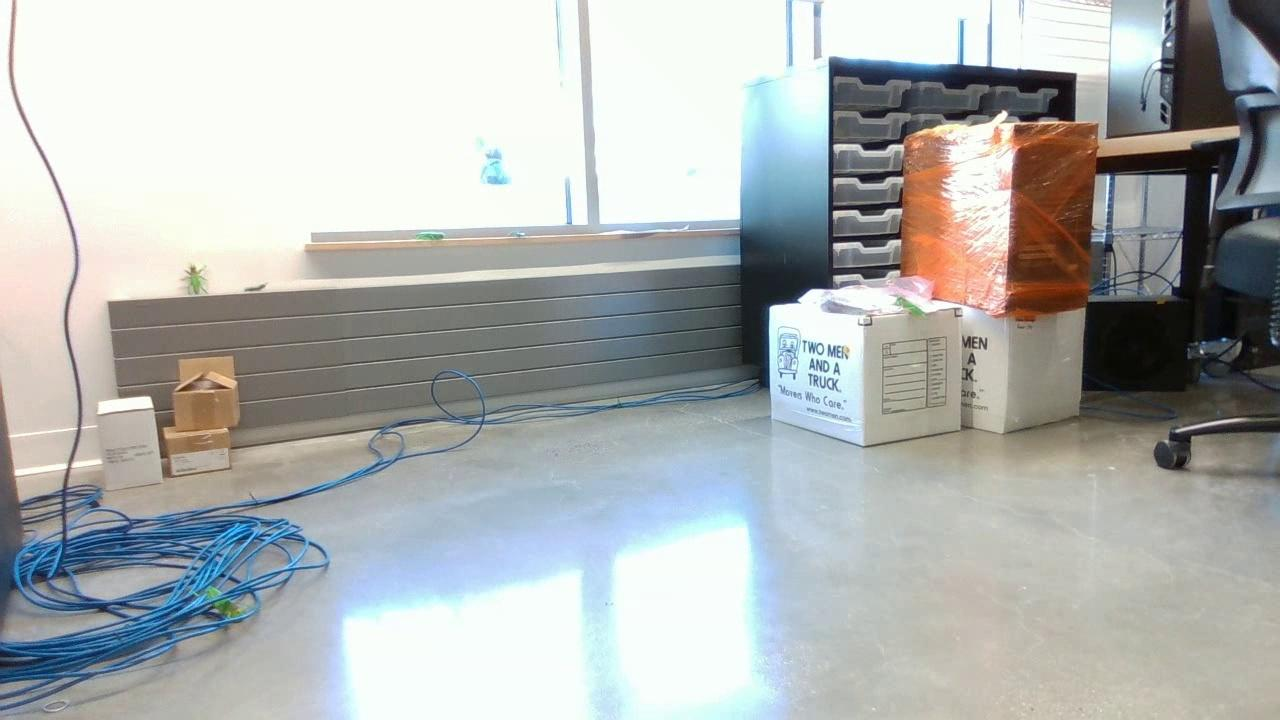grasshopper: (191, 585, 245, 623), (179, 264, 209, 295), (896, 298, 927, 320), (415, 231, 447, 241)
